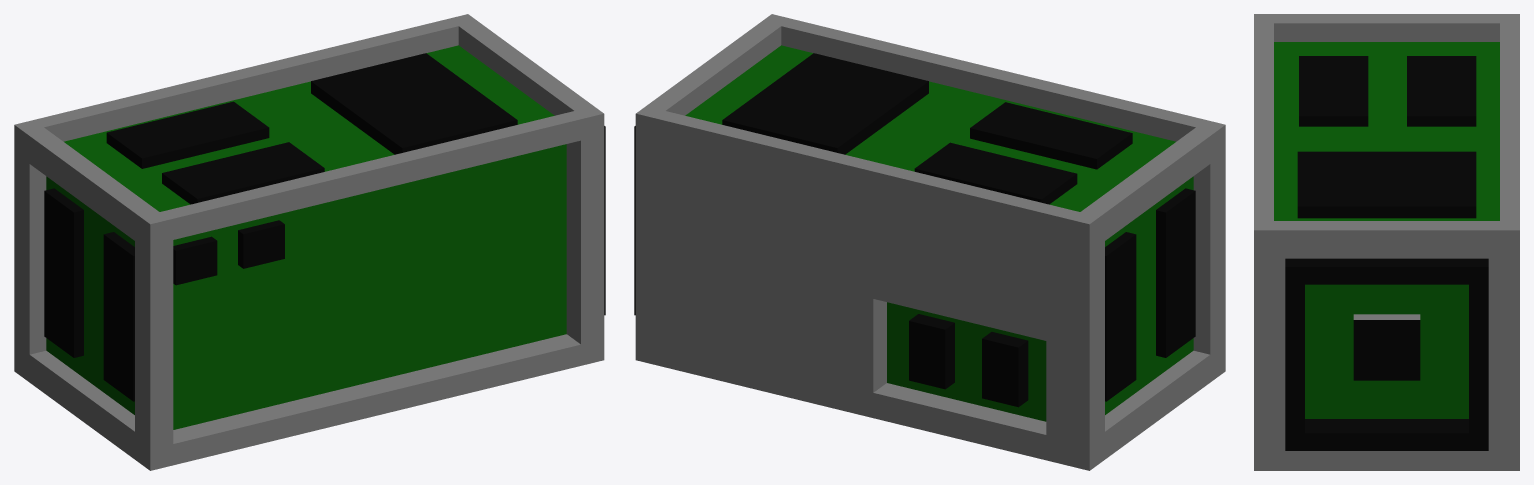
Rendered from alcubierre_drive.glb.
3 views of the same model, side by side, from view 1: azimuth 30°, elevation 25°; view 2: azimuth 150°, elevation 25°; view 3: azimuth 270°, elevation 25° (orthographic). The views are drawn at different scales.
Parts seen in each view (by area): view 1: alcubierreDrive; view 2: alcubierreDrive; view 3: alcubierreDrive.
Boxes of the visible parts, x1,y1,x2,y2 form: alcubierreDrive: (14,14,605,470); alcubierreDrive: (634,14,1225,470); alcubierreDrive: (1254,14,1519,470).
Bounding box in the file's own units: 1 × 0.5 × 0.5.
